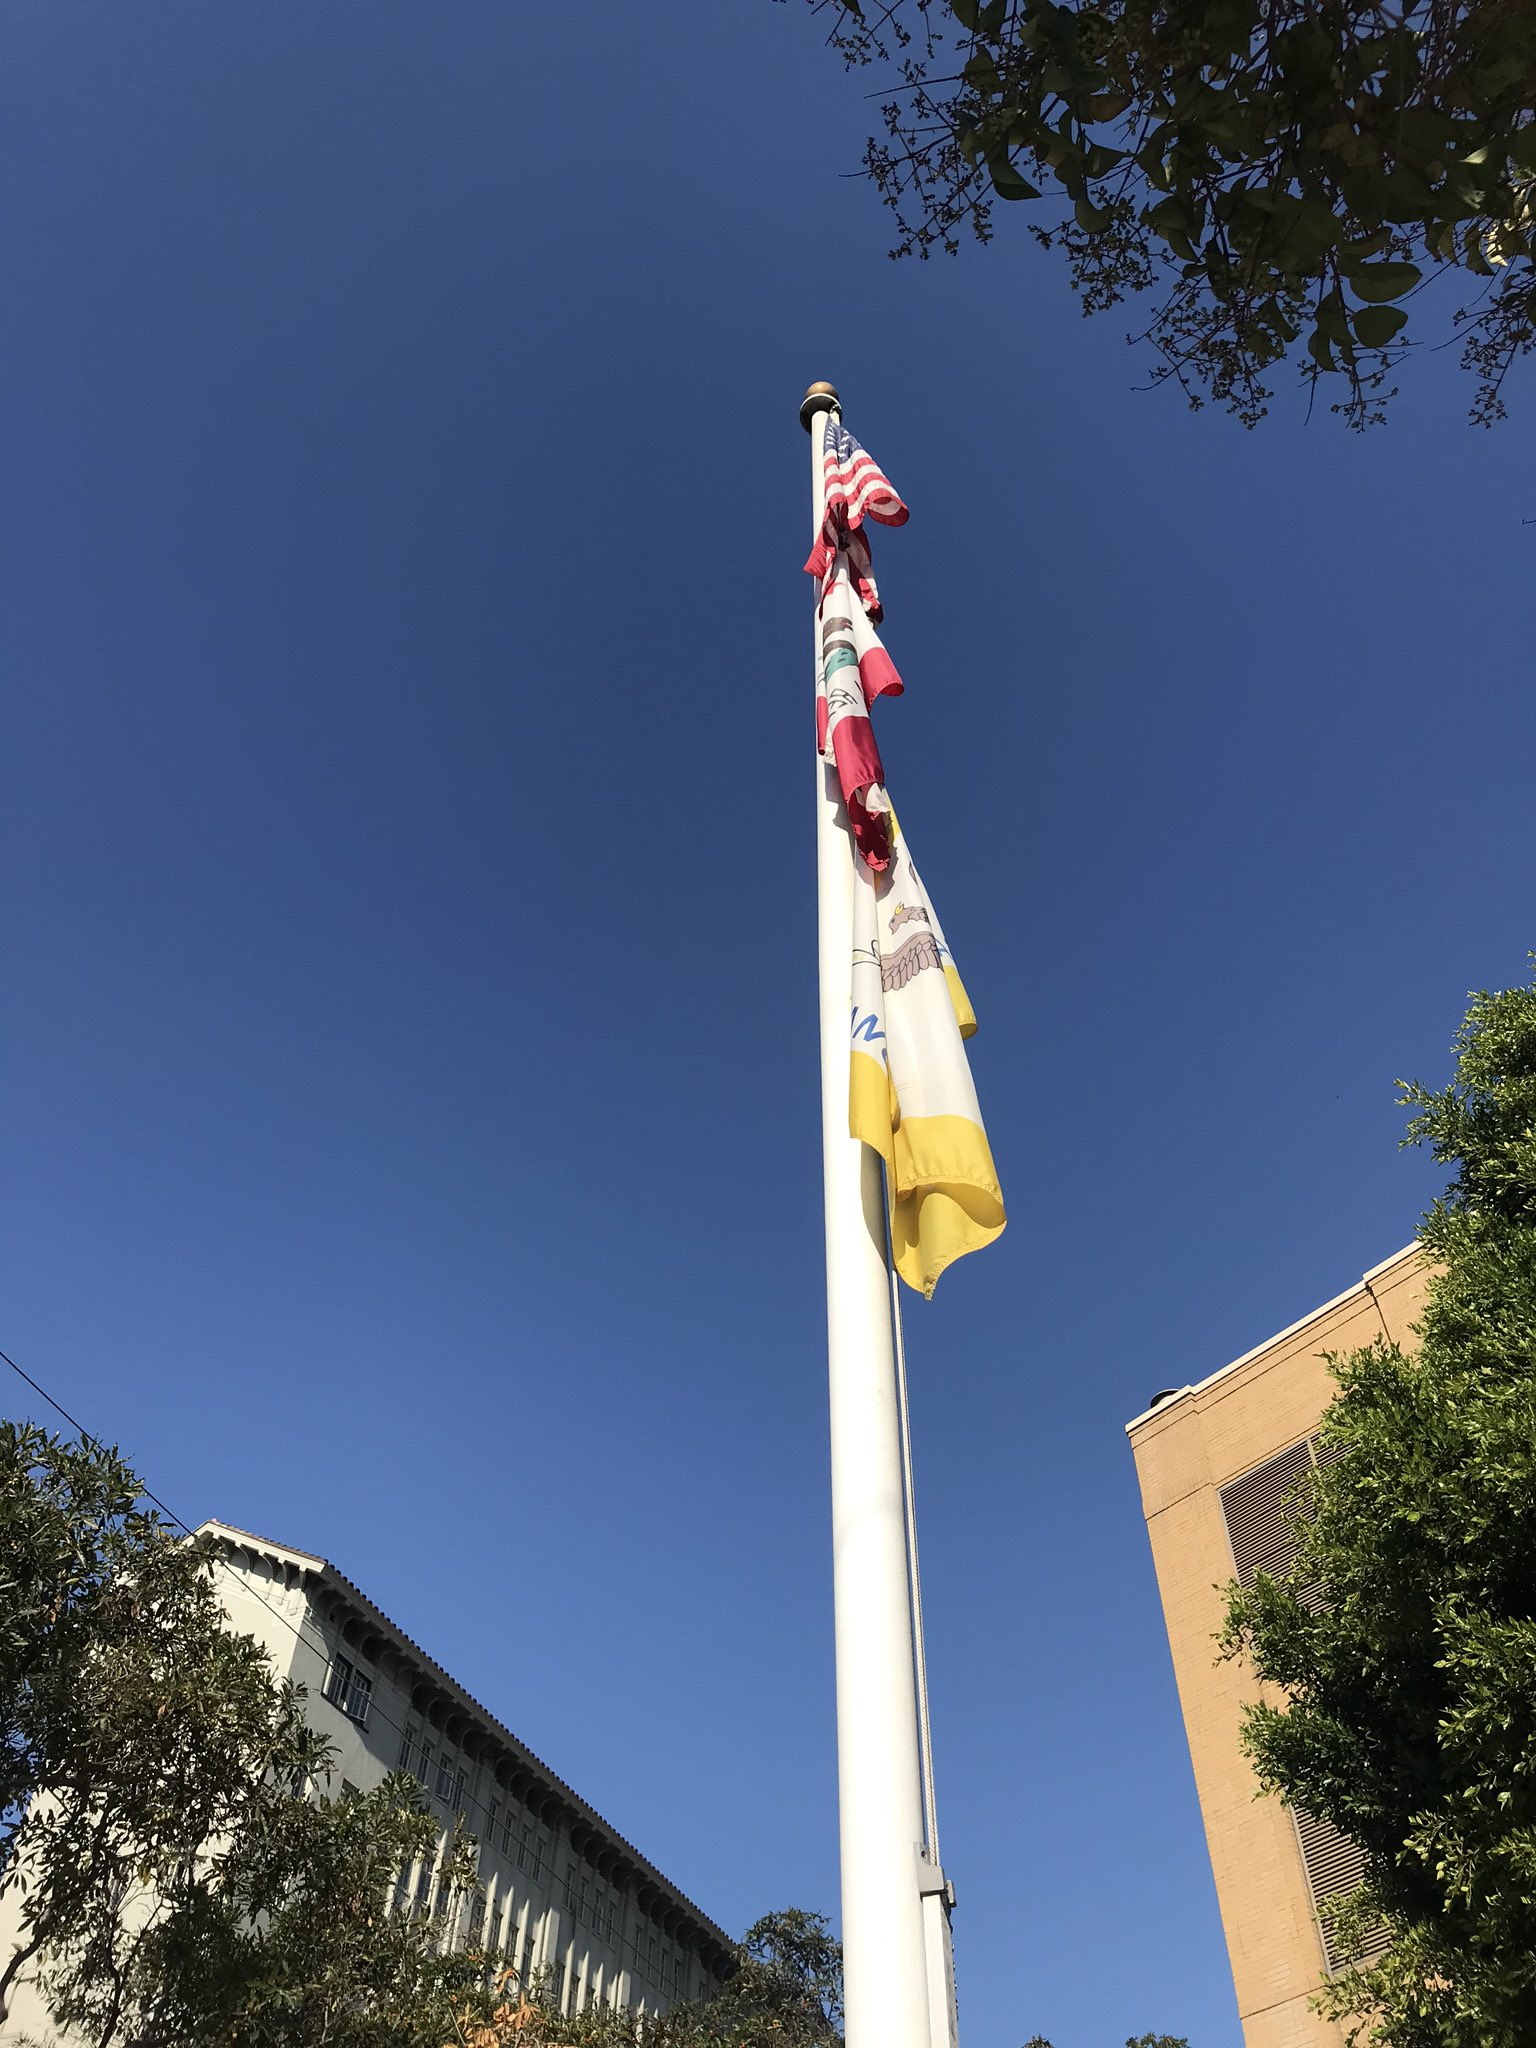Flag: (828, 726, 1016, 1303), (815, 531, 908, 889), (807, 389, 908, 543)
